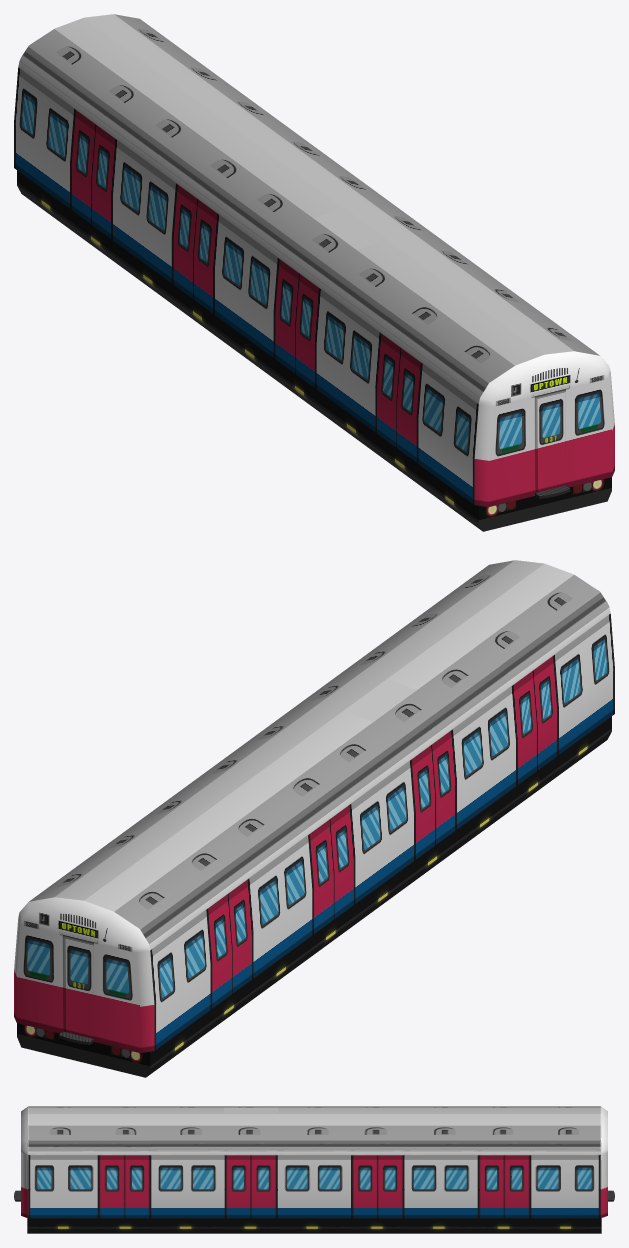
Rendered from city_train.fbx.
3 views of the same model, one above another, from view 1: azimuth 30°, elevation 25°; view 2: azimuth 150°, elevation 25°; view 3: azimuth 270°, elevation 25° (orthographic). The views are drawn at different scales.
Visible parts, largest first — view 1: train:polySurface1; view 2: train:polySurface1; view 3: train:polySurface1.
Part boxes in pixels (x1,y1,x2,y2): train:polySurface1: (14, 14, 614, 531); train:polySurface1: (14, 560, 614, 1077); train:polySurface1: (14, 1106, 614, 1233).
Bounding box in the file's own units: 3.5 × 3.84 × 20.82.
